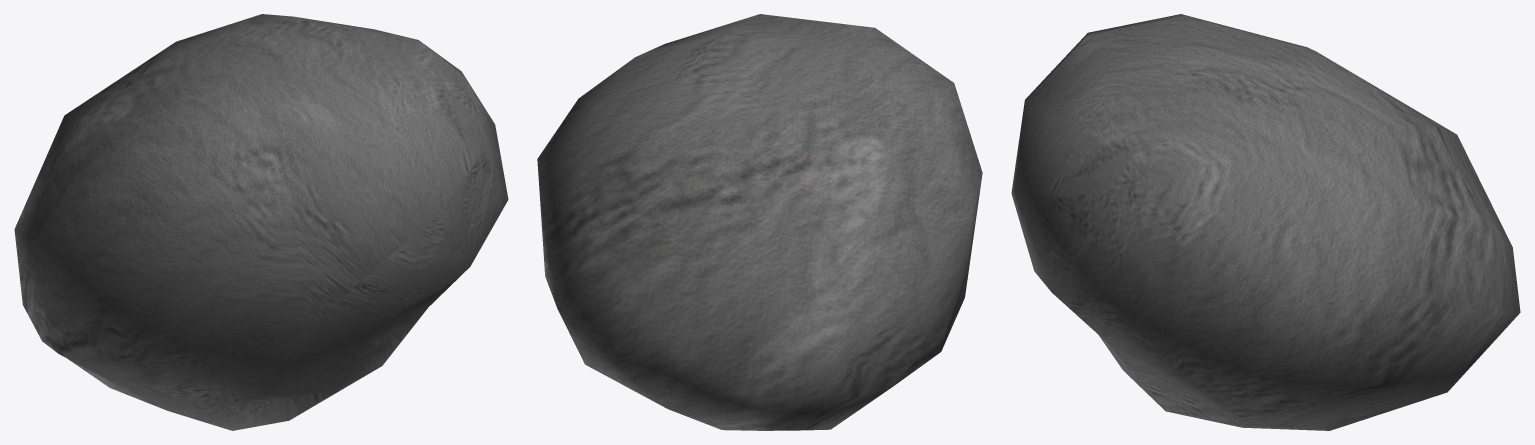
The model's file is Stone11Shape.dae.
The picture shows the model from 3 angles, left to right: view 1: azimuth 30°, elevation 25°; view 2: azimuth 150°, elevation 25°; view 3: azimuth 270°, elevation 25°; orthographic projection. The views are drawn at different scales.
Visible parts, largest first — view 1: Stone11; view 2: Stone11; view 3: Stone11.
Boxes of the visible parts, x1,y1,x2,y2 form: Stone11: (14, 14, 508, 430); Stone11: (537, 14, 982, 430); Stone11: (1011, 14, 1520, 430).
Bounding box in the file's own units: 11.53 × 9.69 × 11.45.
